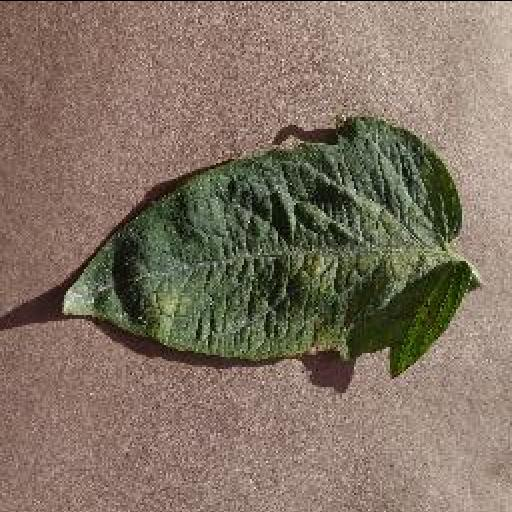disease_tomato: (56, 110, 470, 378)
